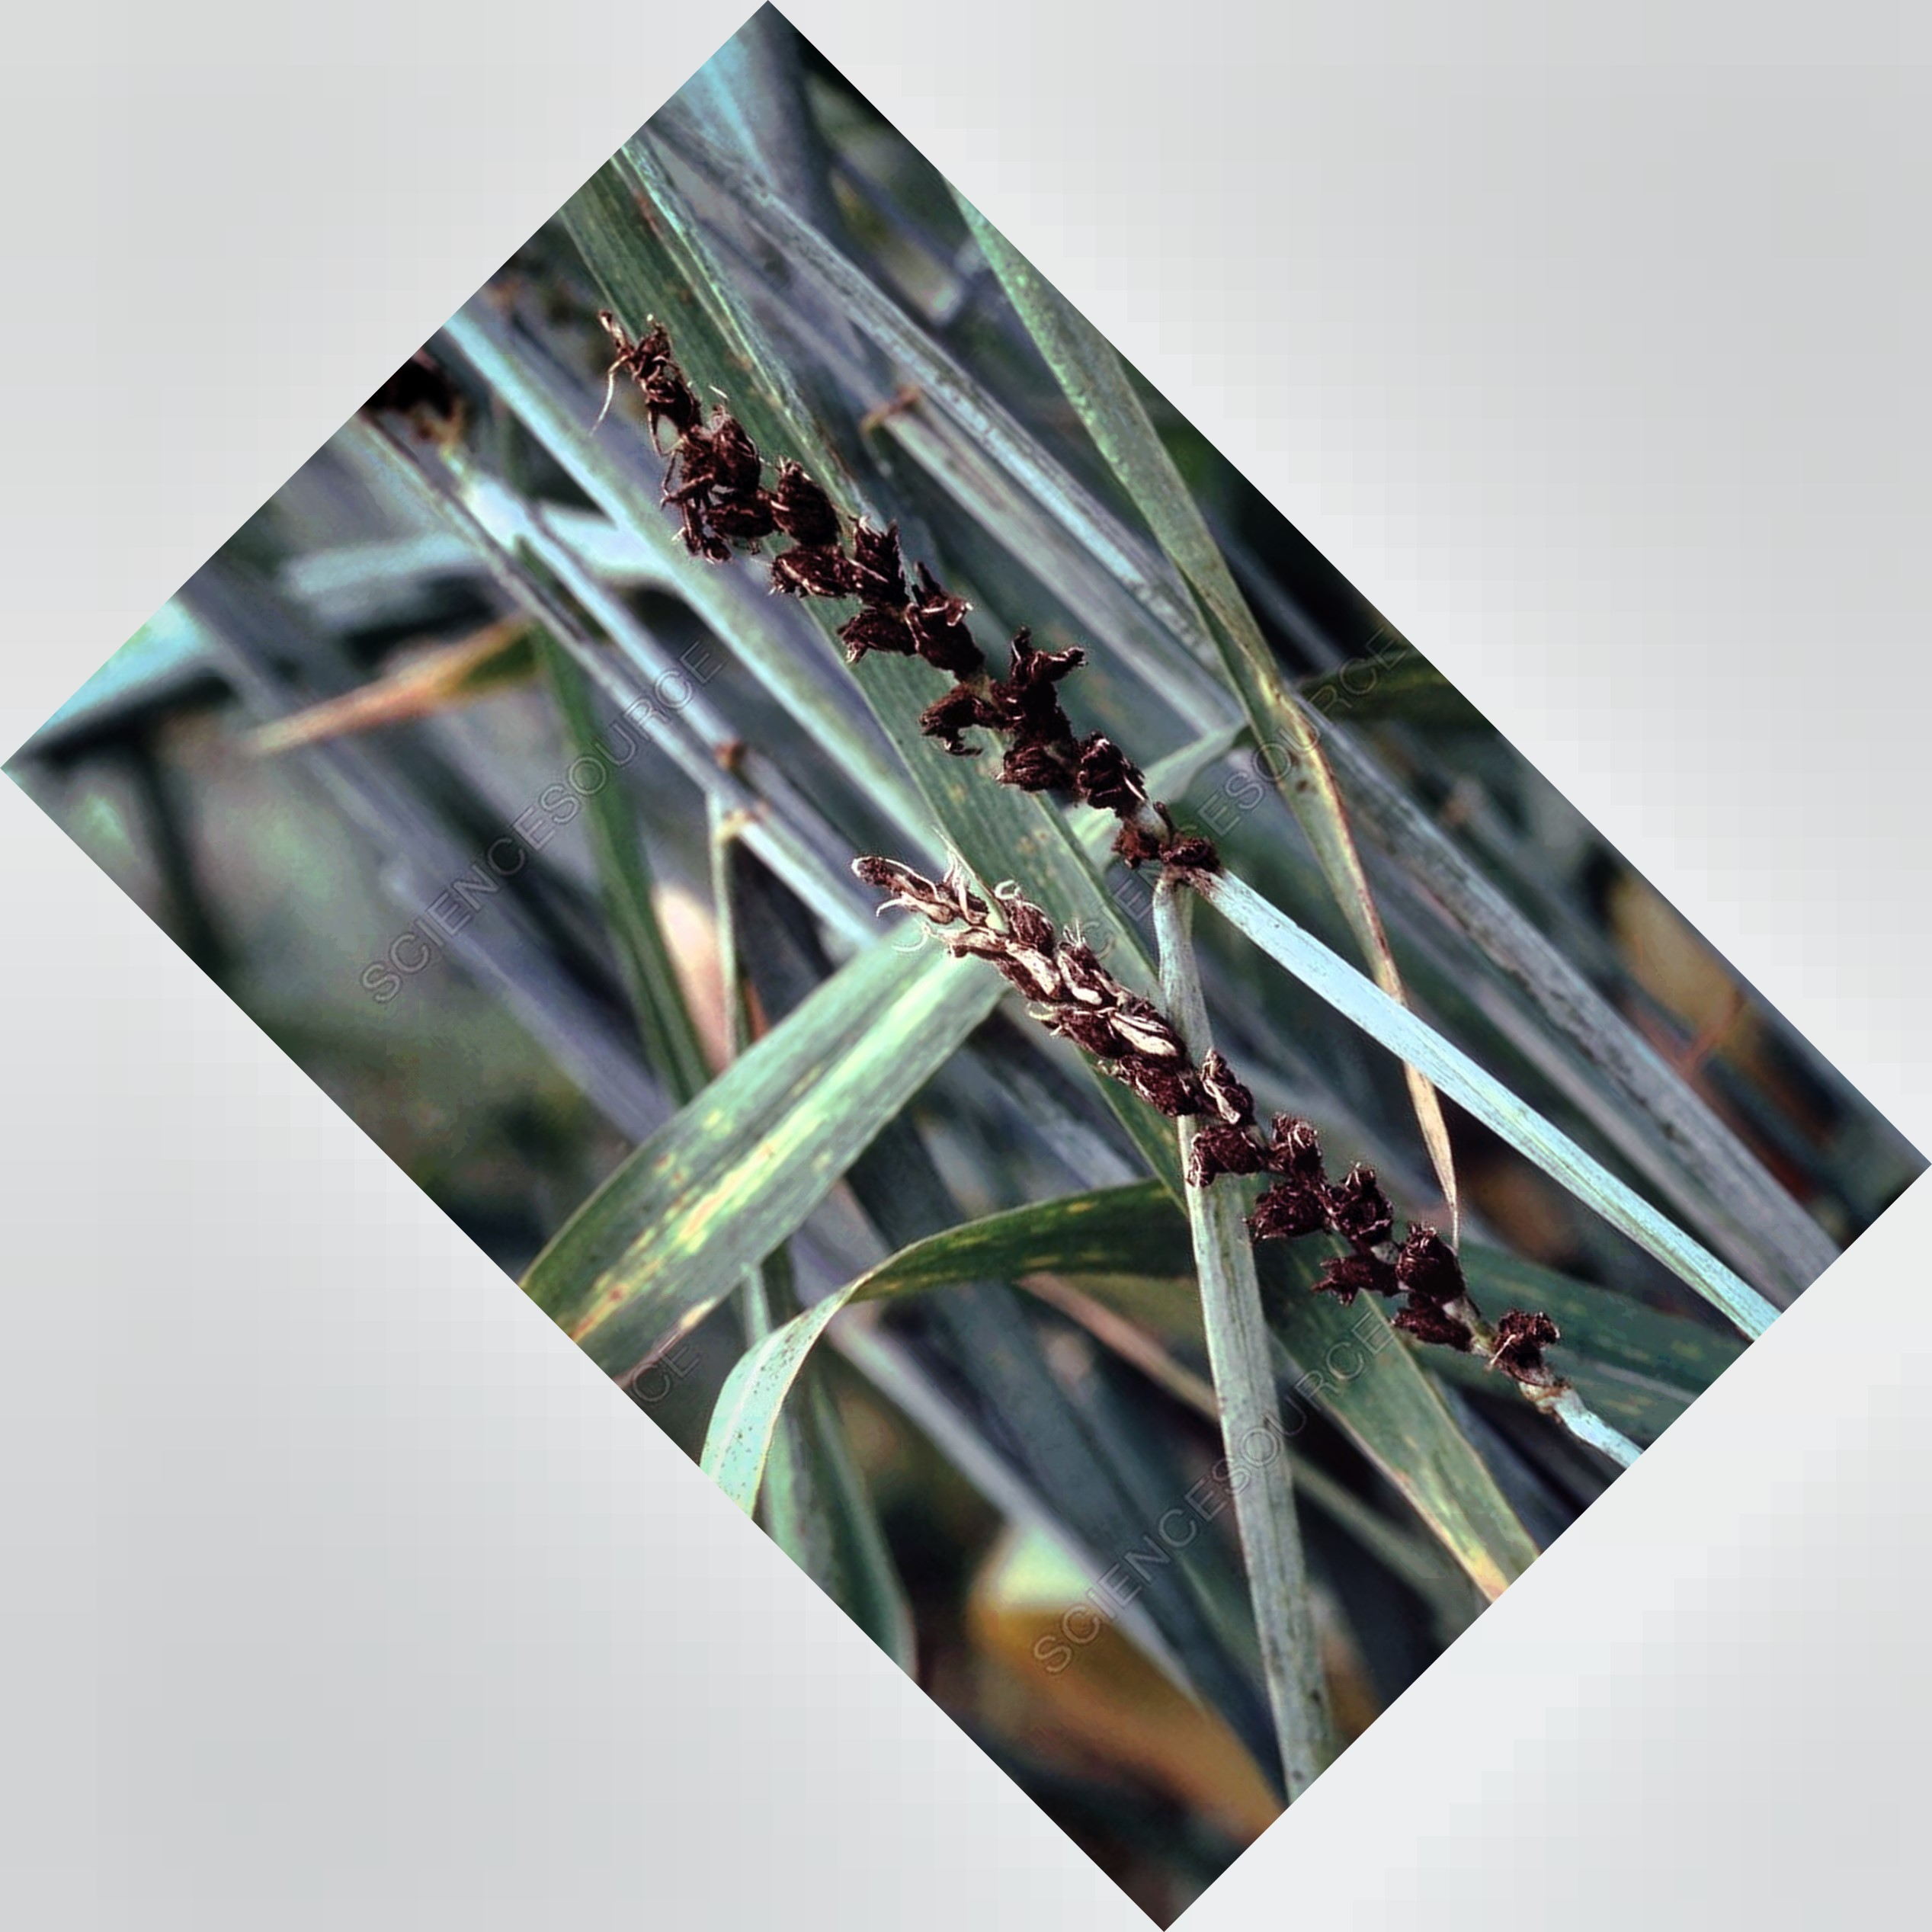Wheat Loose Smut: (605, 336, 1200, 862)
